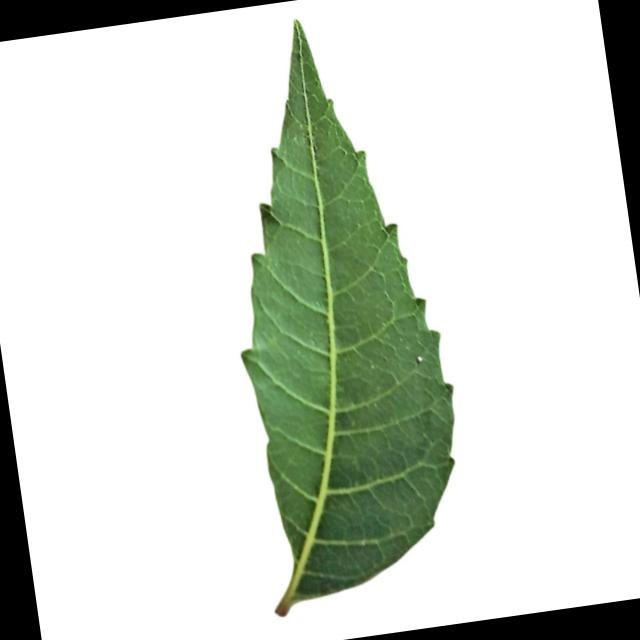Medicinal-Neem: (192, 0, 482, 618)
